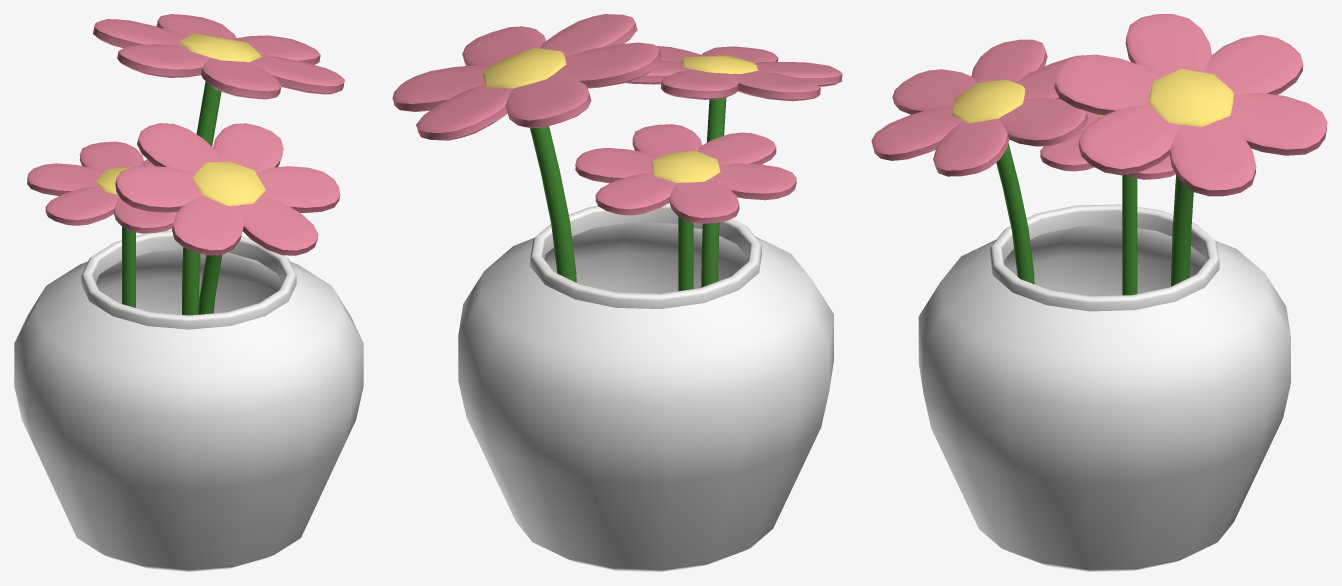
The model's file is Flower_Vase_with_Flowers_5.glb.
The picture shows the model from 3 angles, left to right: view 1: azimuth 30°, elevation 25°; view 2: azimuth 150°, elevation 25°; view 3: azimuth 270°, elevation 25°; orthographic projection. The views are drawn at different scales.
Visible parts, largest first — view 1: Vase_with_Flowers_5; view 2: Vase_with_Flowers_5; view 3: Vase_with_Flowers_5.
Boxes of the visible parts, <box> form: Vase_with_Flowers_5: <box>14,14,363,571</box>; Vase_with_Flowers_5: <box>392,14,842,571</box>; Vase_with_Flowers_5: <box>871,14,1327,571</box>.
Size of the model in its own units: 0.2355 by 0.3147 by 0.2643.
2 materials, 2 textured.
